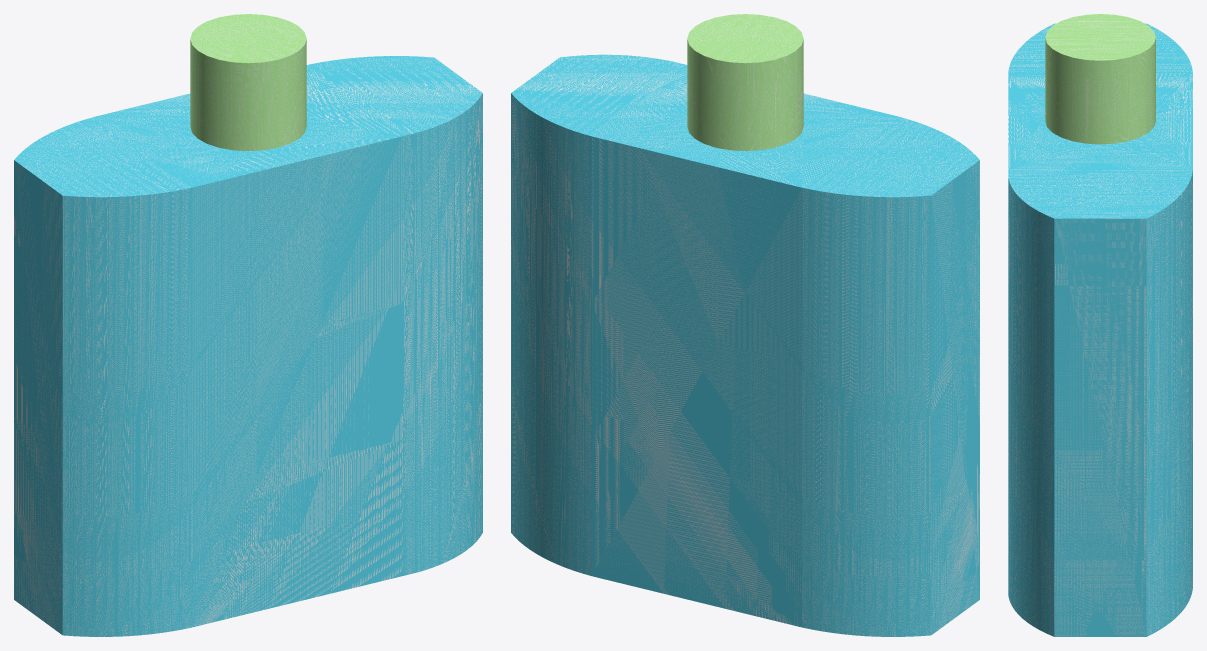
The model's file is Shampoo_Short.dae.
The picture shows the model from 3 angles, left to right: view 1: azimuth 30°, elevation 25°; view 2: azimuth 150°, elevation 25°; view 3: azimuth 270°, elevation 25°; orthographic projection. The views are drawn at different scales.
Parts seen in each view (by area): view 1: SketchUp (×2); view 2: SketchUp (×2); view 3: SketchUp (×2).
Boxes of the visible parts, x1,y1,x2,y2 form: SketchUp (×2): [14, 14, 482, 636]; SketchUp (×2): [511, 14, 979, 636]; SketchUp (×2): [1008, 14, 1192, 636].
Size of the model in its own units: 3.94 by 1.58 by 4.72.
